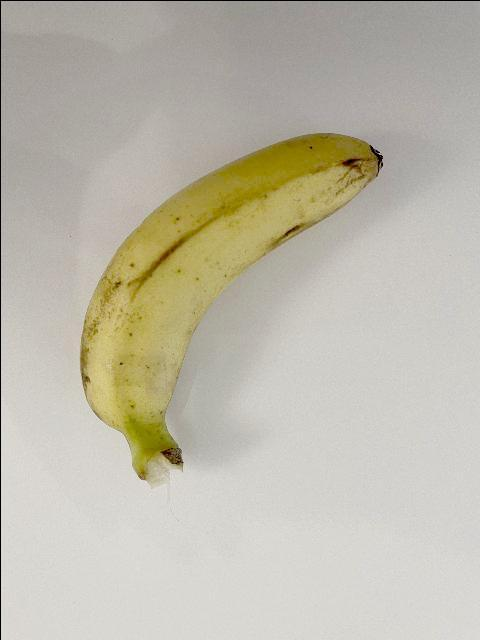banana: (77, 130, 383, 488)
